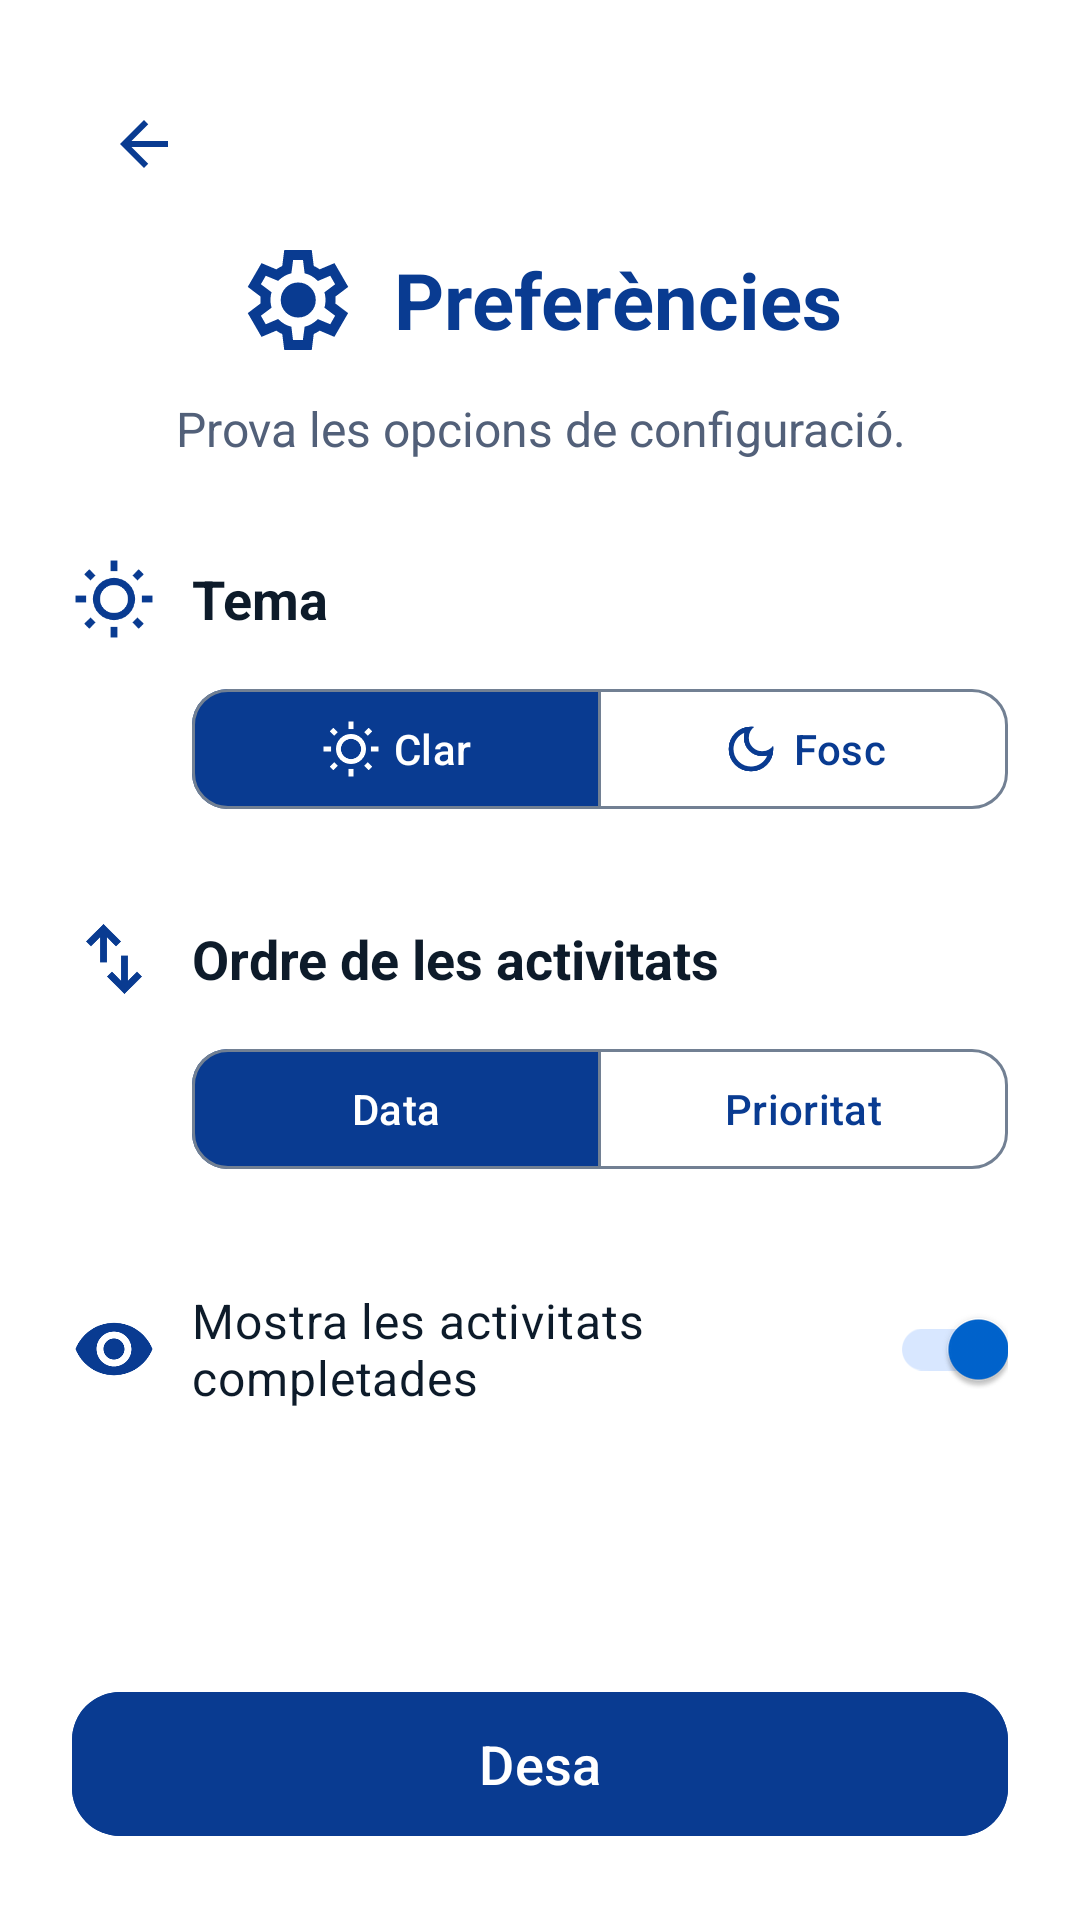

Icon click points for this 1080w x 1920h phone screenshot, format (x,y):
settings: (298,300)
sort: (114,959)
sun: (114,599)
Torna enrere: (144,144)
view: (114,1349)
